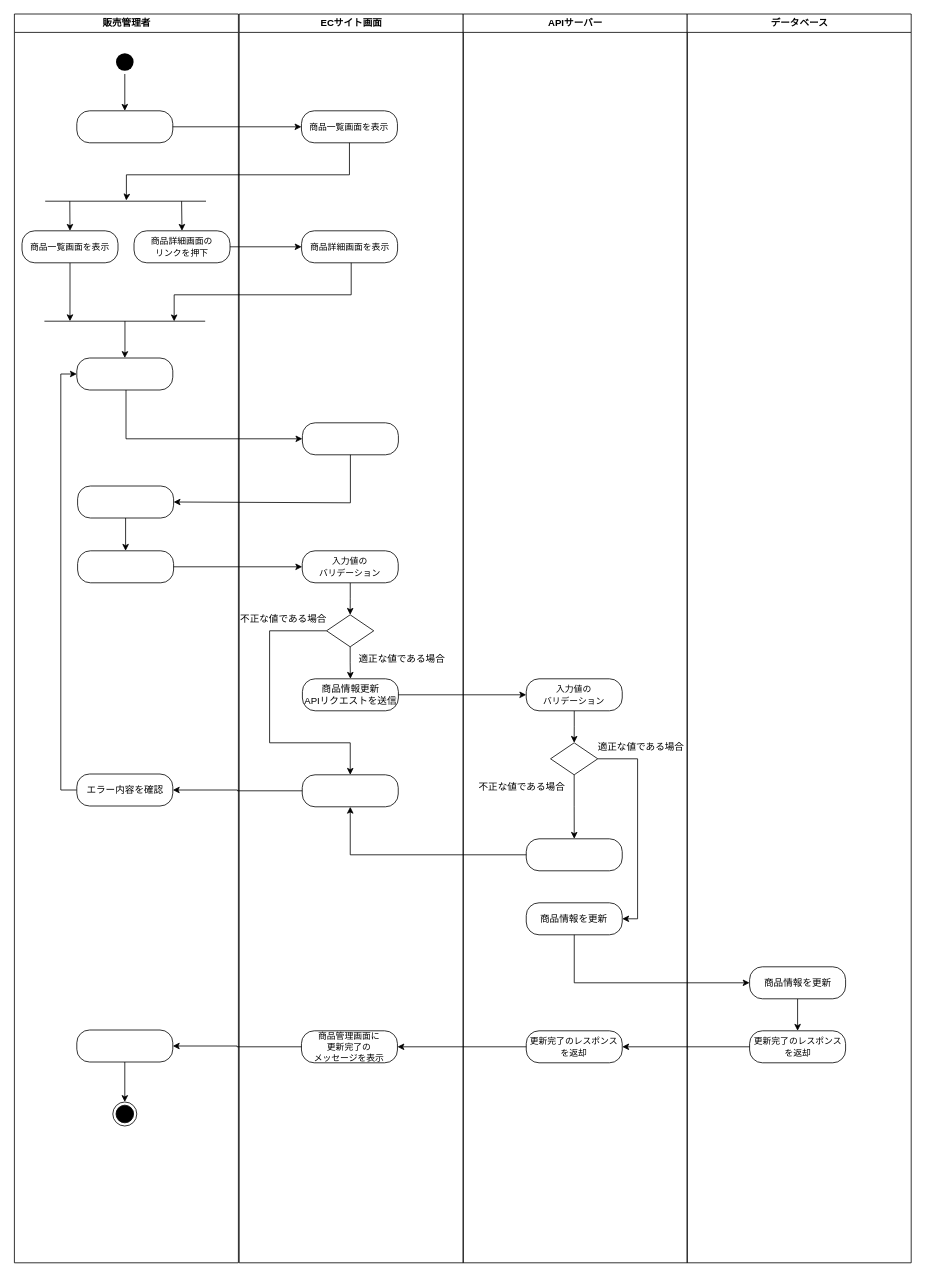
Image size: 925x1277. Some labels were removed from this diagram. Here are the shapes that lost their labels. From the top down, the centre of each, then its label:
At [124,126]: "商品管理画面に アクセス".
At [124,373]: "編集ボタンを押下".
At [350,438]: "商品編集画面を表示".
At [125,501]: "商品情報を編集".
At [125,566]: "更新ボタンを押下".
At [349,790]: "エラー内容を表示".
At [573,854]: "エラーを返却".
At [124,1045]: "更新が完了したことを確認".
